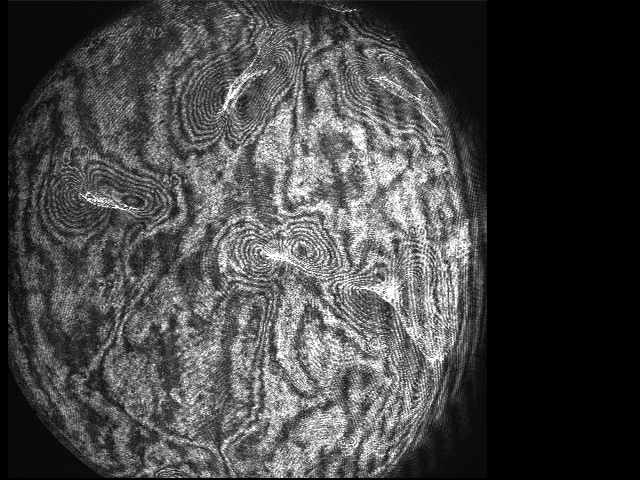plume: (39, 163, 173, 242), (186, 50, 290, 139), (223, 218, 340, 283)
